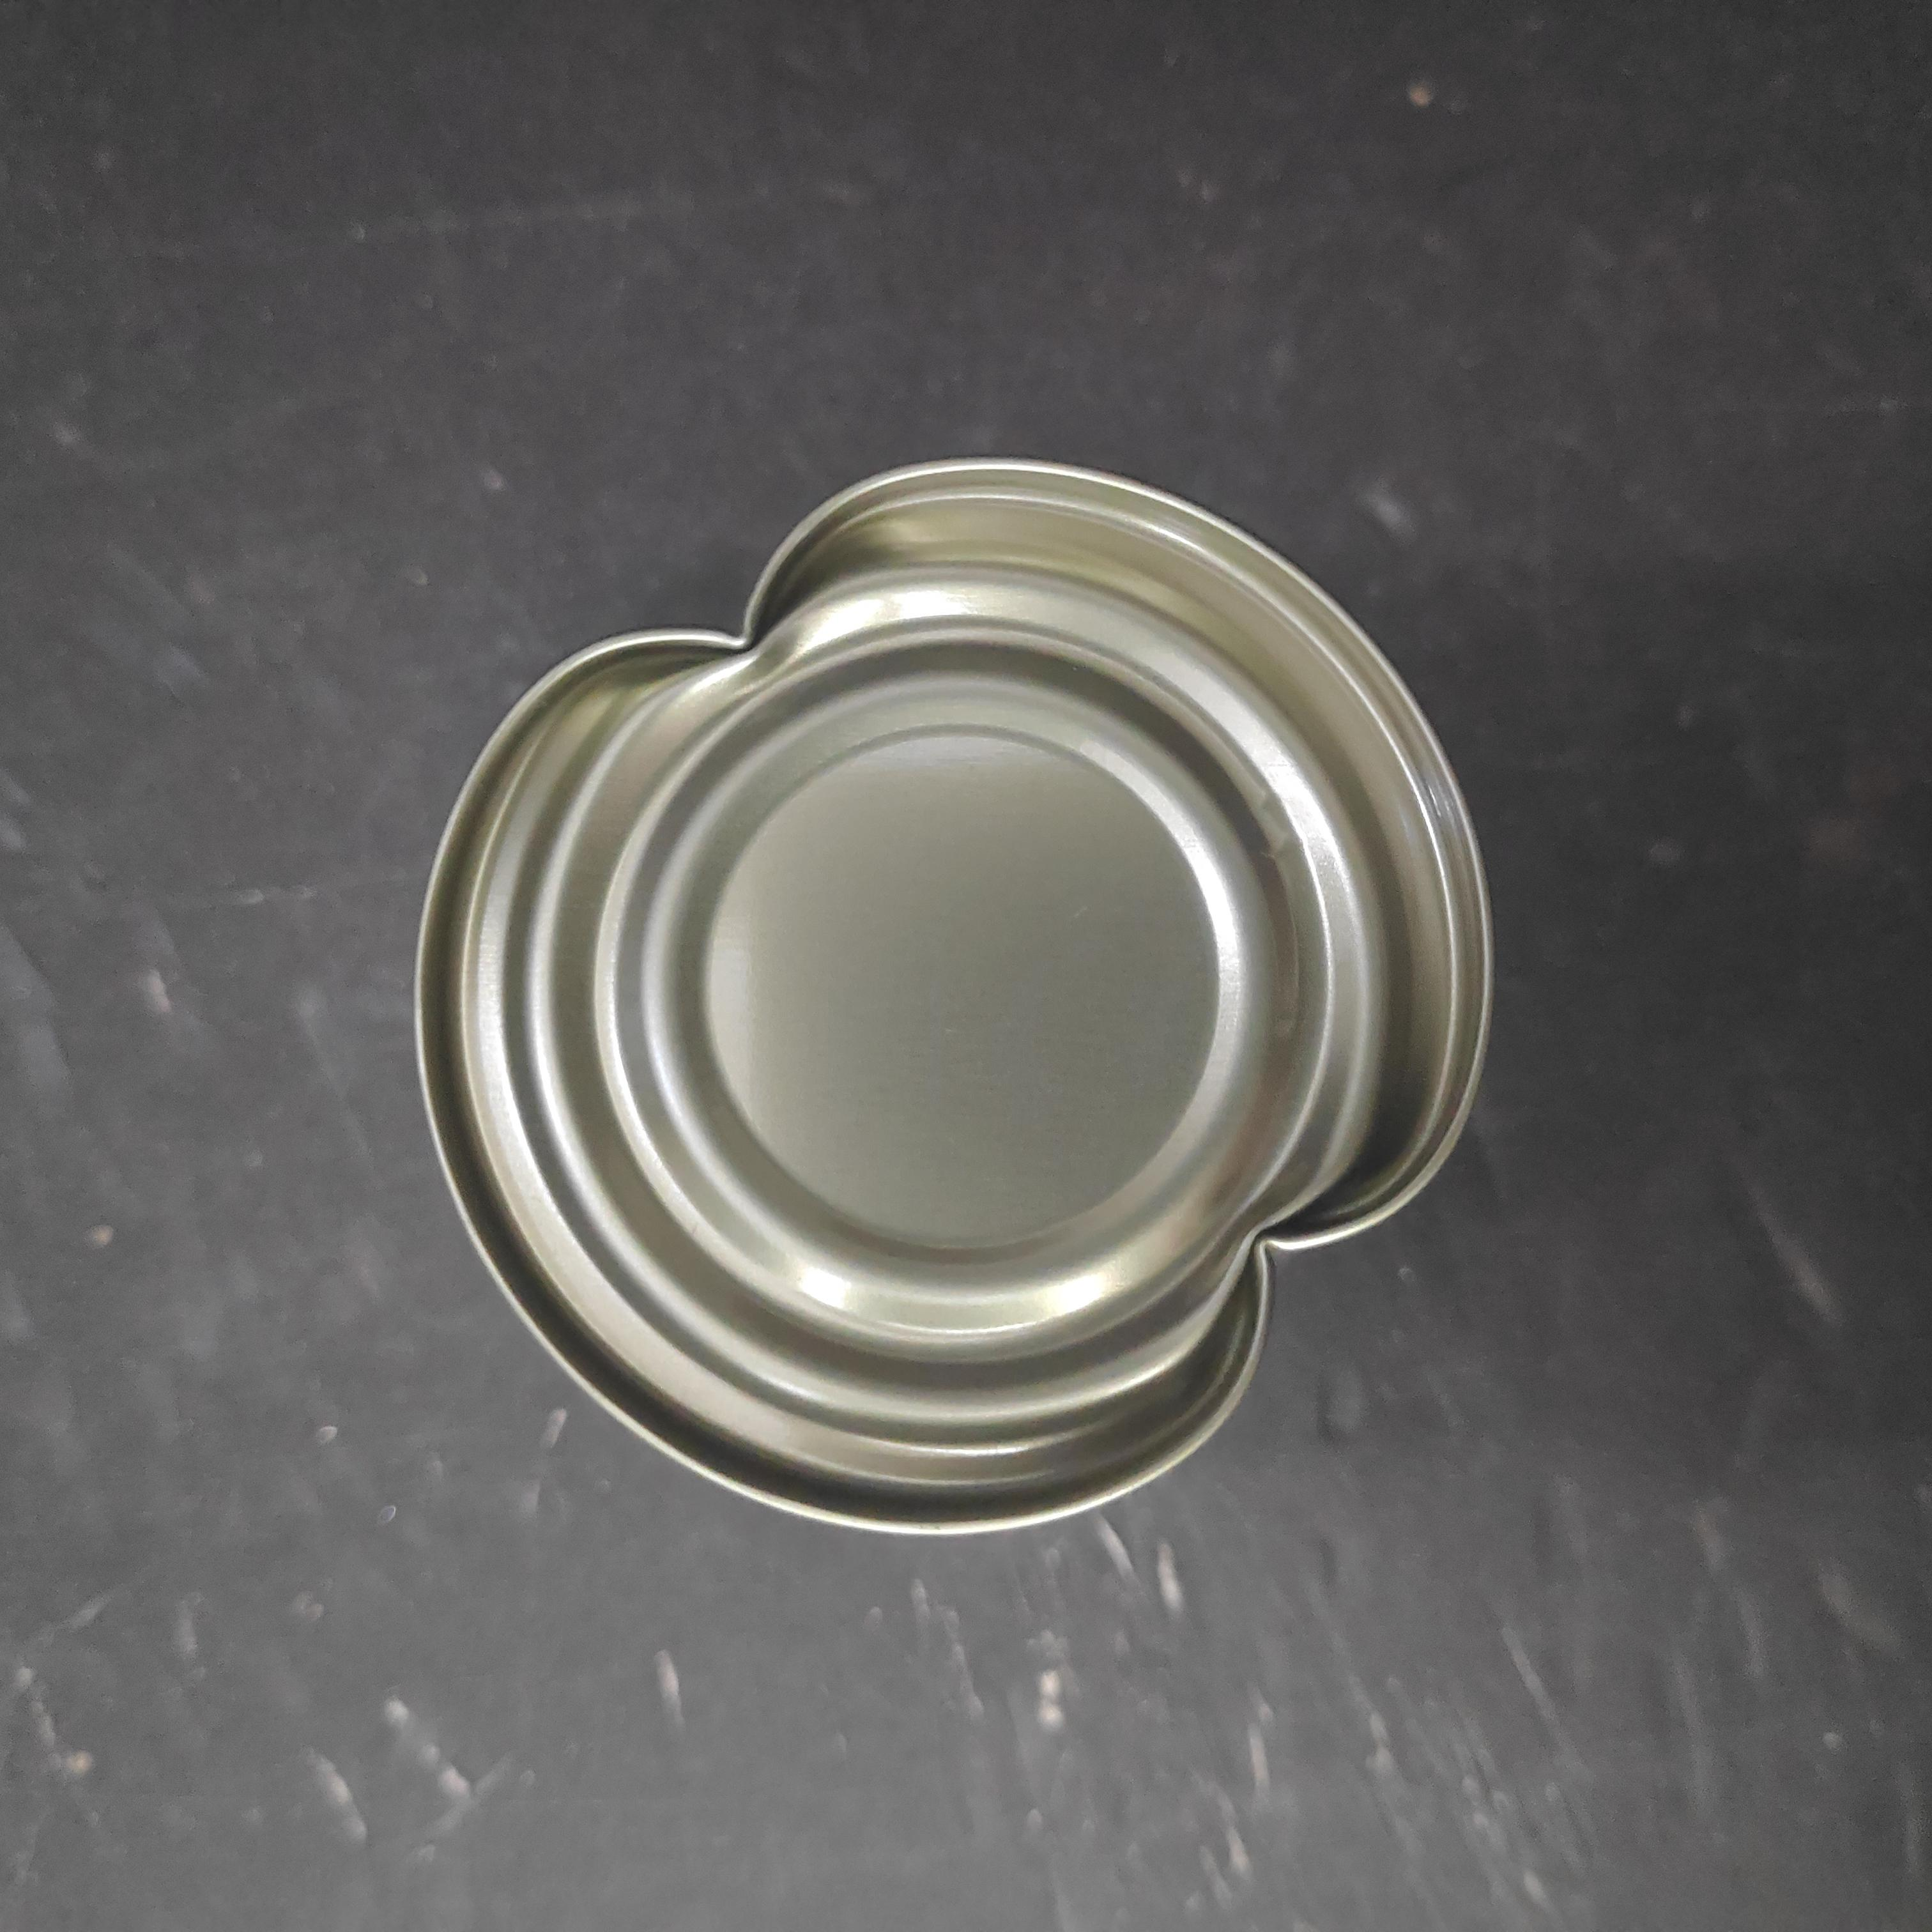Critical Defect: (432, 380, 1529, 1491)
